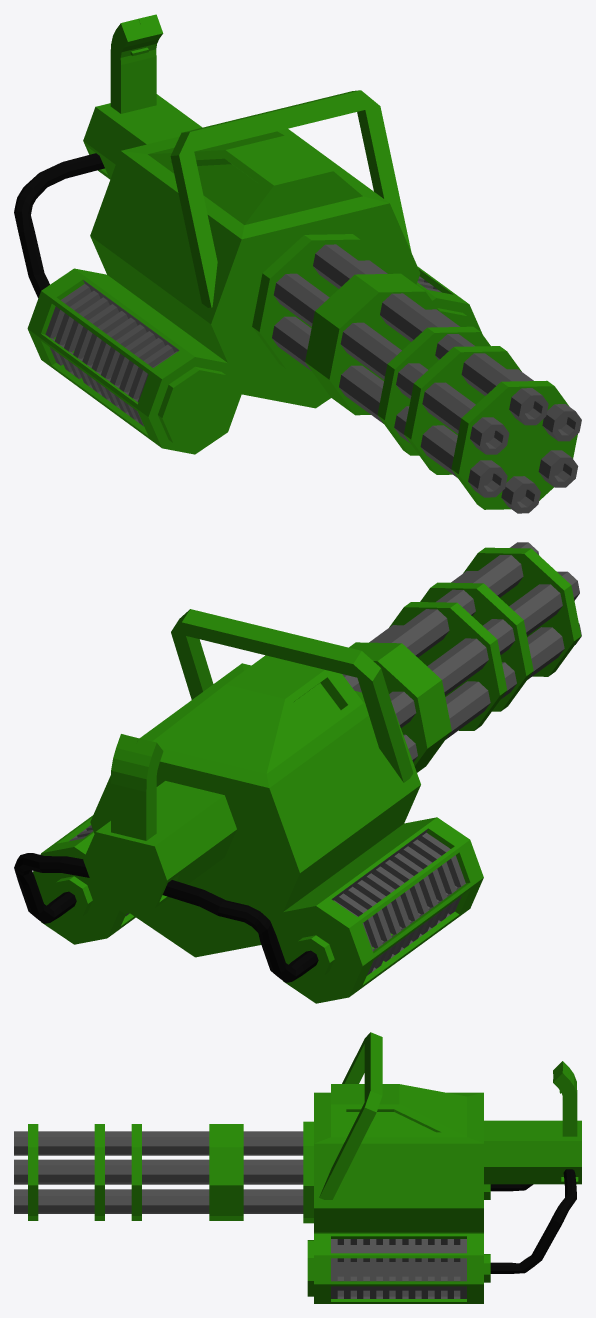
Rendered from minigun_done_materials.fbx.
3 renders of one model, top to bottom at view 1: azimuth 30°, elevation 25°; view 2: azimuth 150°, elevation 25°; view 3: azimuth 270°, elevation 25°, orthographic. The views are drawn at different scales.
Visible parts, largest first — view 1: barrel, body; view 2: barrel, body; view 3: barrel, body.
Part boxes in pixels (left/top/right/bottom): barrel: left=14, top=14, right=482, bottom=454; body: left=252, top=234, right=581, bottom=513; barrel: left=14, top=609, right=483, bottom=1003; body: left=342, top=542, right=581, bottom=772; barrel: left=307, top=1032, right=581, bottom=1303; body: left=14, top=1121, right=313, bottom=1223.
Size of the model in its own units: 136 by 111 by 285.
